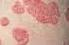plaque psoriasis: (10, 0, 60, 26), (12, 29, 29, 45), (13, 1, 25, 16), (64, 8, 69, 34), (0, 16, 10, 26), (59, 43, 67, 45), (0, 40, 2, 45)
